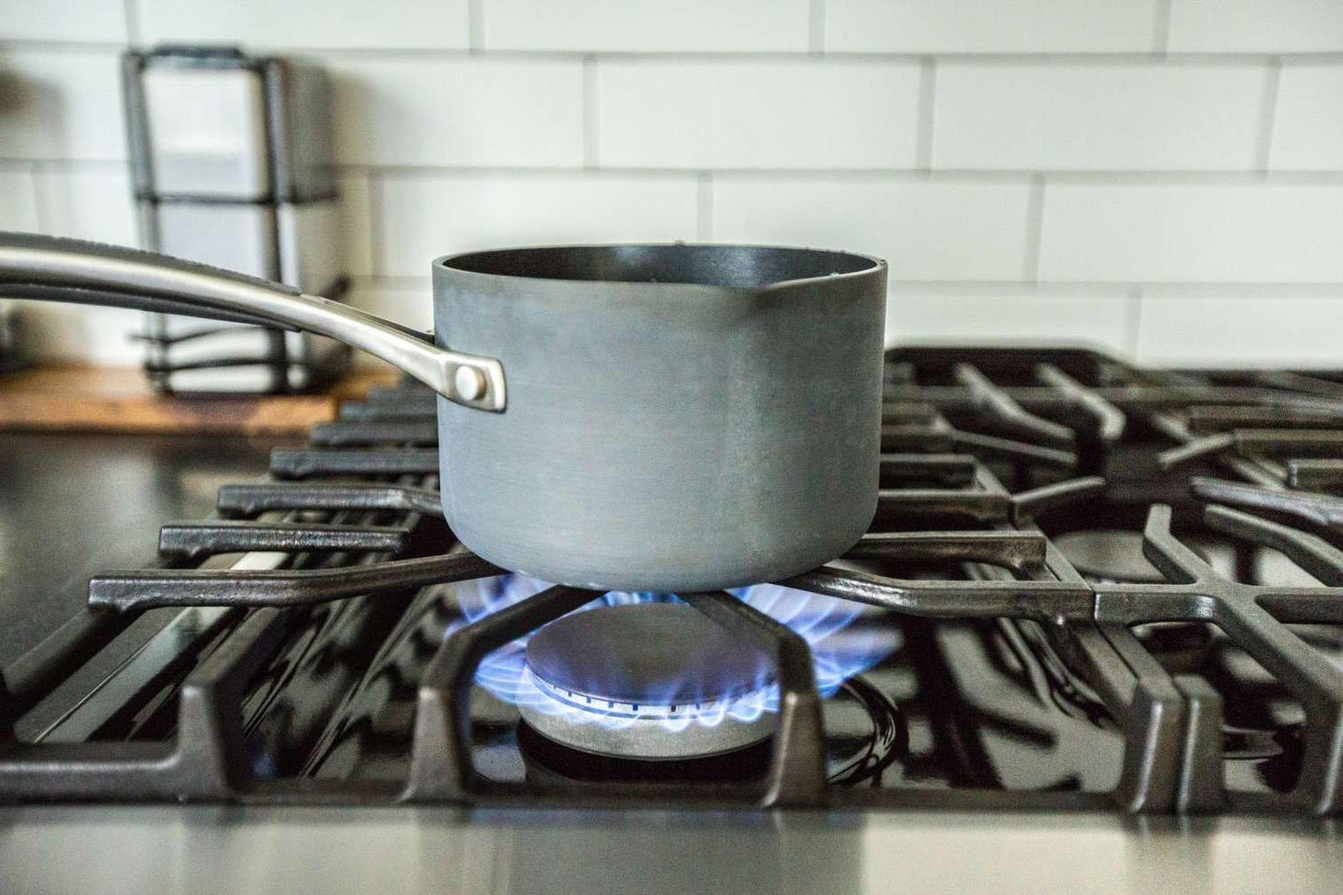controlled_fire: (395, 493, 886, 782)
